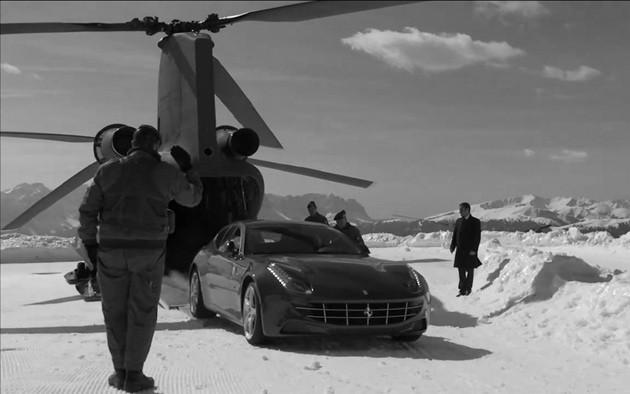car: (188, 220, 434, 348)
